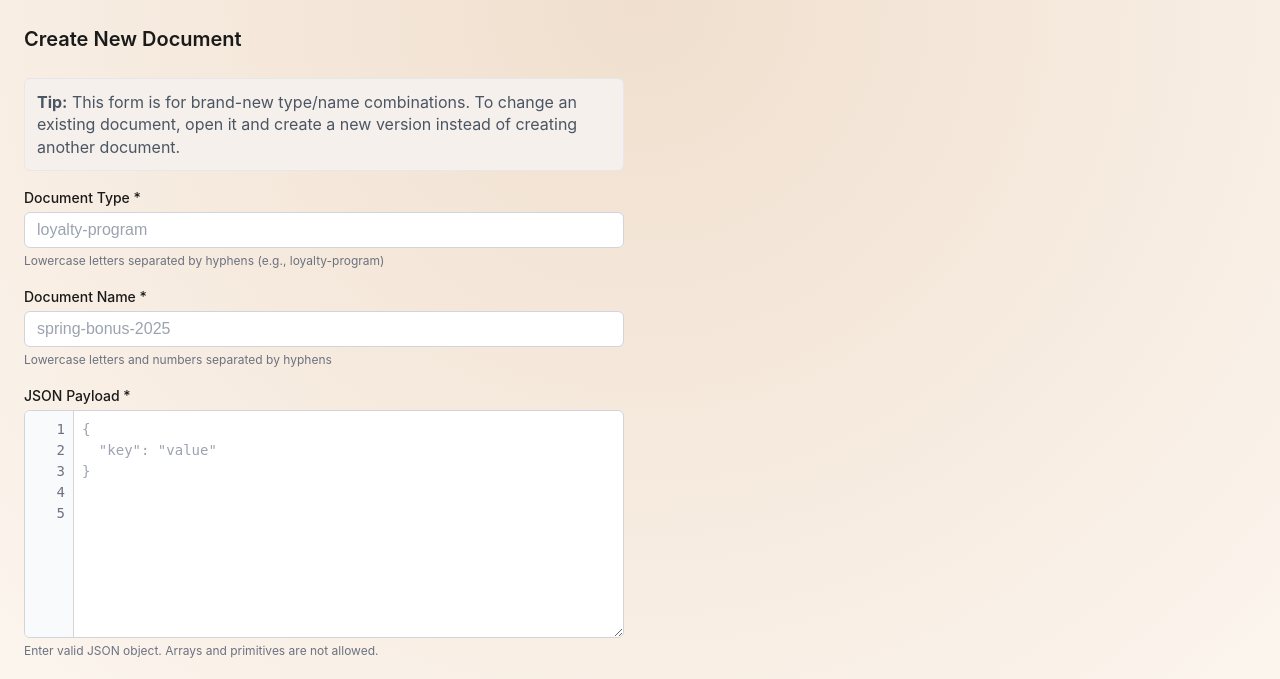
Test: CreateDocumentForm › field validation - JSON payload › shows error for non-object JSON (array)
The image size is (1280, 679).
Type "[1, 2, 3]" into the text box labelled "JSON Payload *". click: x=348, y=524
box: [74, 411, 623, 637]
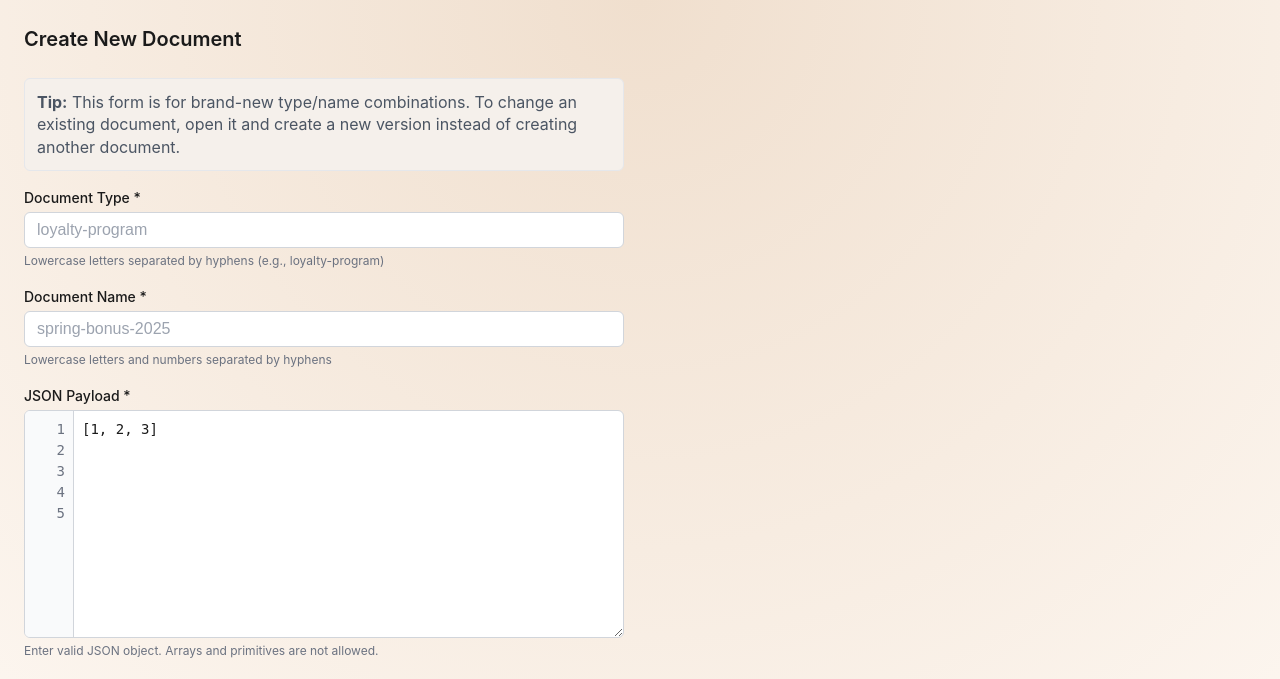
Leave the text box labelled "JSON Payload *", box [74, 411, 623, 637]
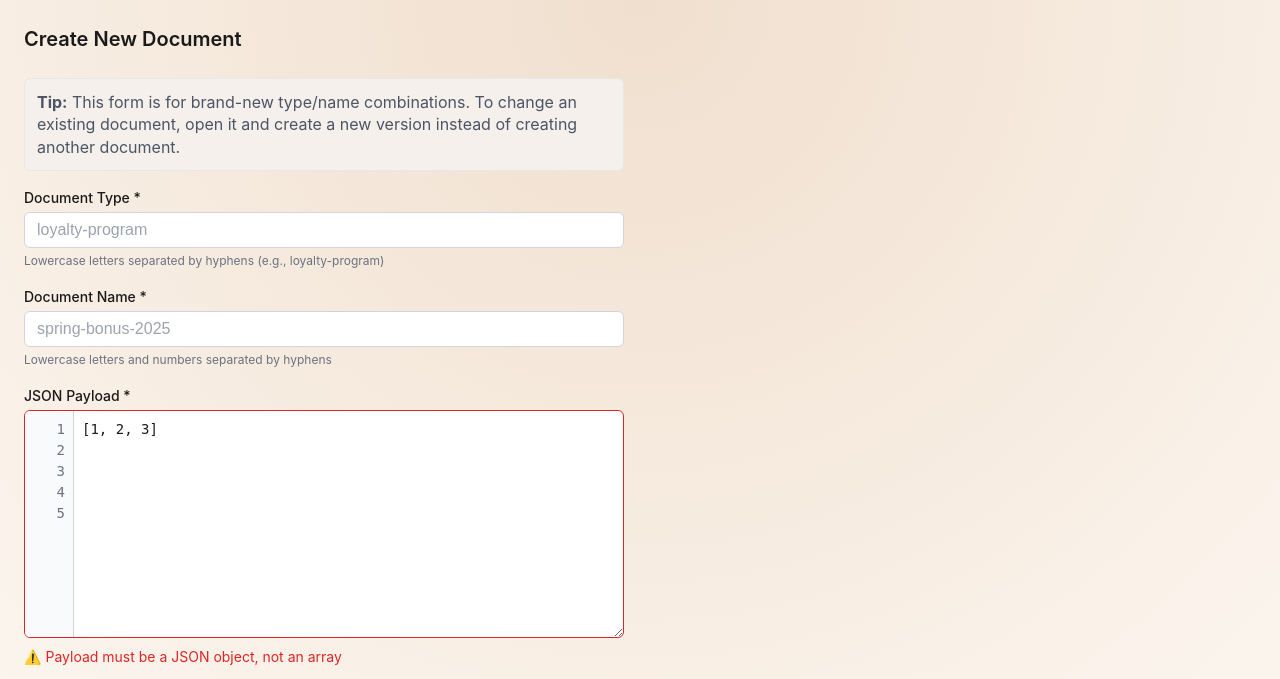
Expected: the text "⚠️ Payload must be a JSON object, not an array" is shown, [24, 648, 342, 665]
